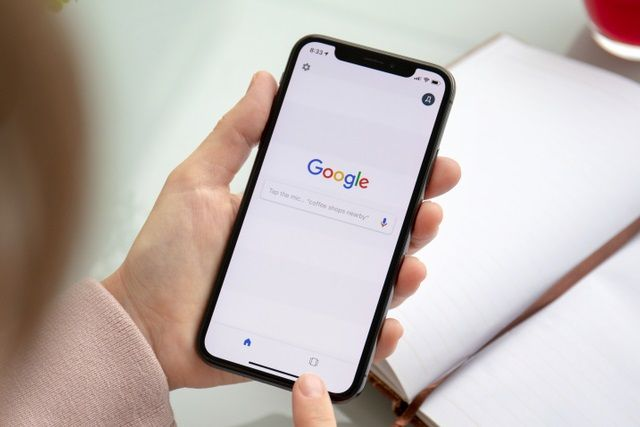Cell Phone: (221, 32, 438, 400)
